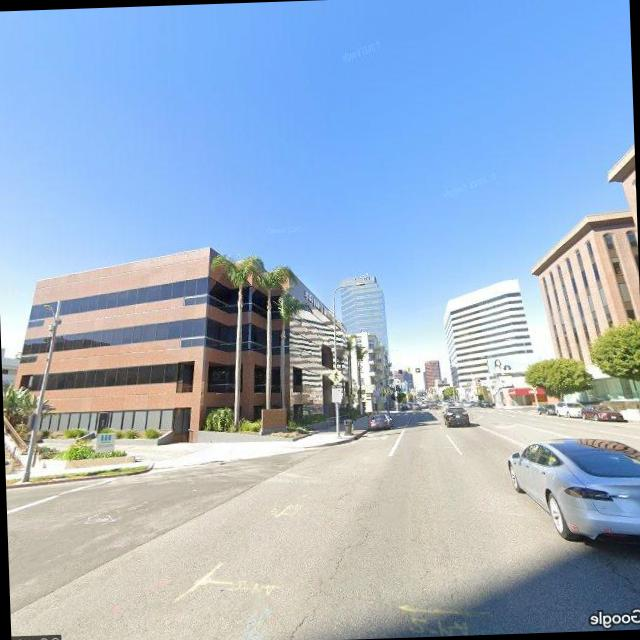crack: (272, 523, 380, 640), (603, 555, 640, 621)
